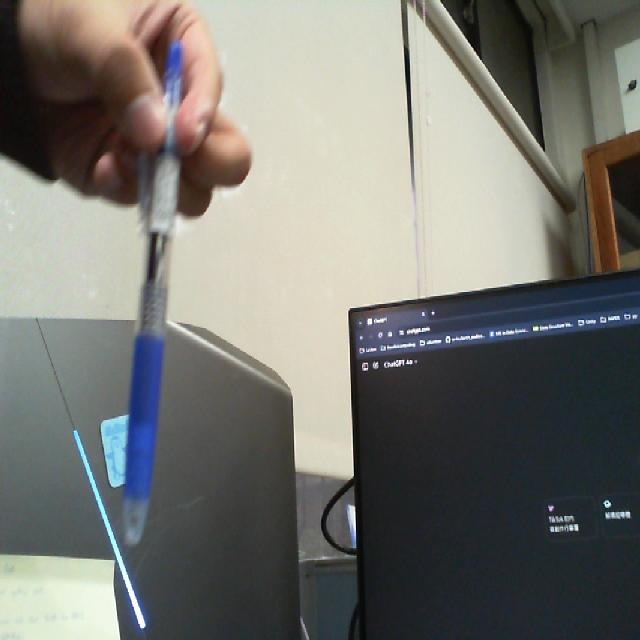Pen: (113, 31, 190, 562)
